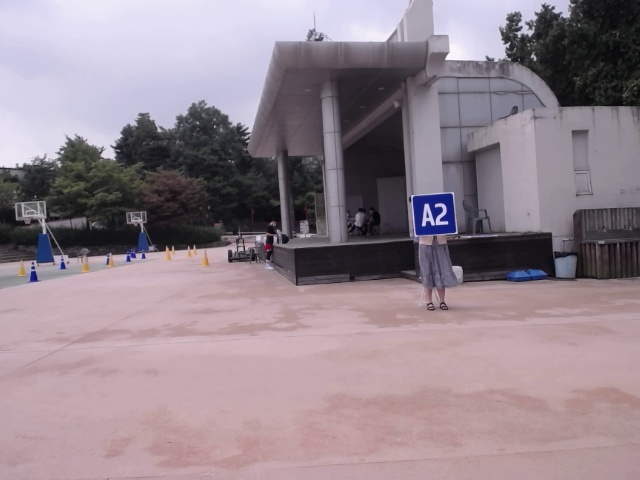delivery_a2: (411, 191, 458, 237)
